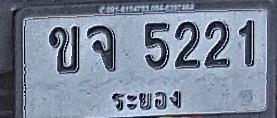1: (238, 18, 254, 66)
2: (175, 20, 200, 68), (205, 19, 230, 66)
5: (144, 22, 169, 68)
A02: (49, 25, 80, 73)
A08: (87, 24, 116, 70)
RYG: (108, 87, 184, 112)
